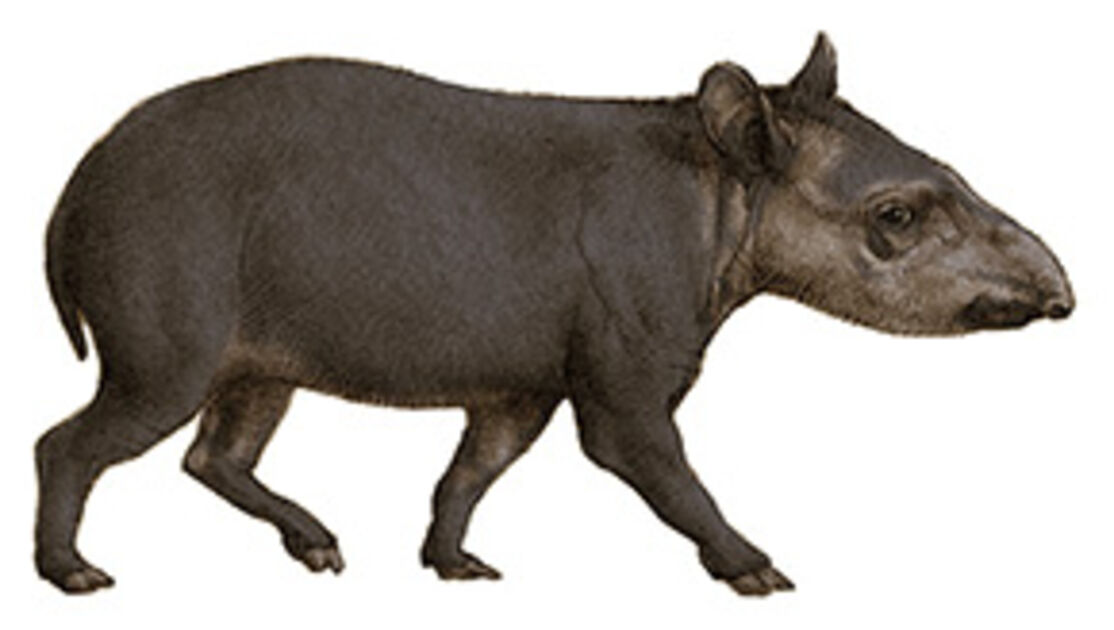Anta: (18, 26, 1086, 601)
